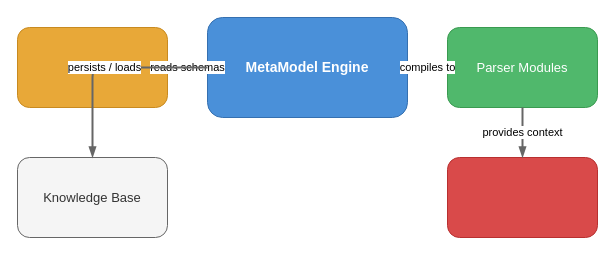
Image size: 615x255. Some labels were removed from this diagram. Each missing label, with the centre of its shape:
"LLM / Agents" belongs at (x=522, y=197).
"Schema Directory" belongs at (x=92, y=67).
